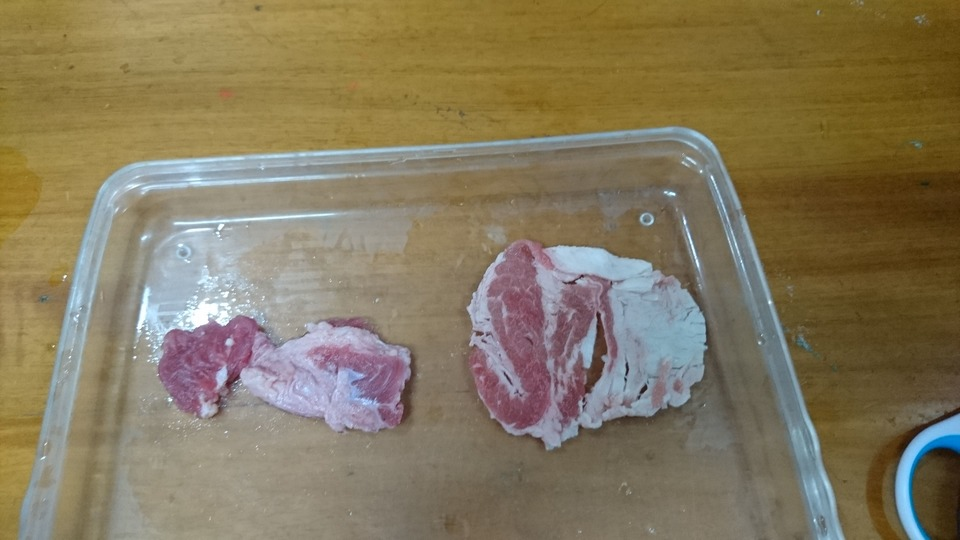restructured meat: (461, 238, 711, 455), (156, 320, 411, 433)
